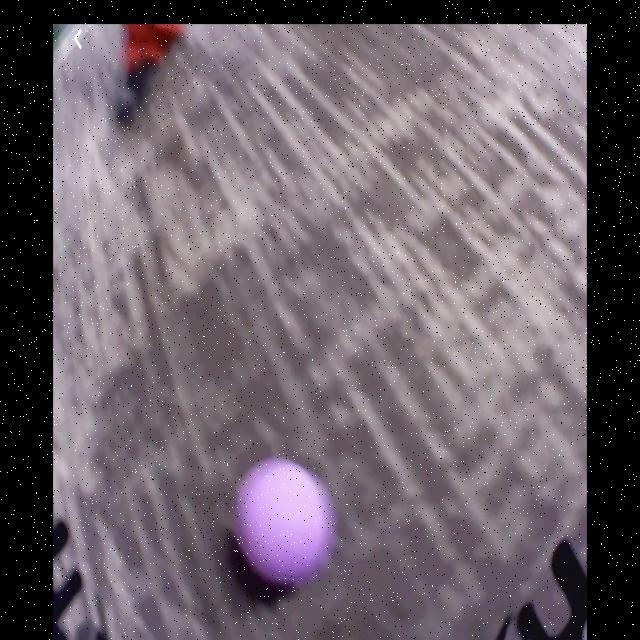ball: (237, 460, 335, 584)
